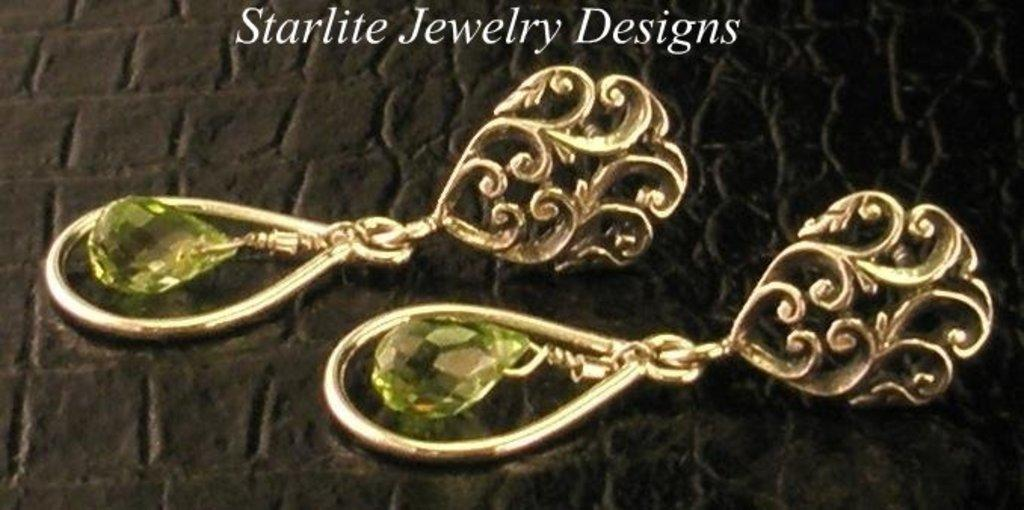earring: (319, 181, 1000, 465), (38, 60, 689, 350)
